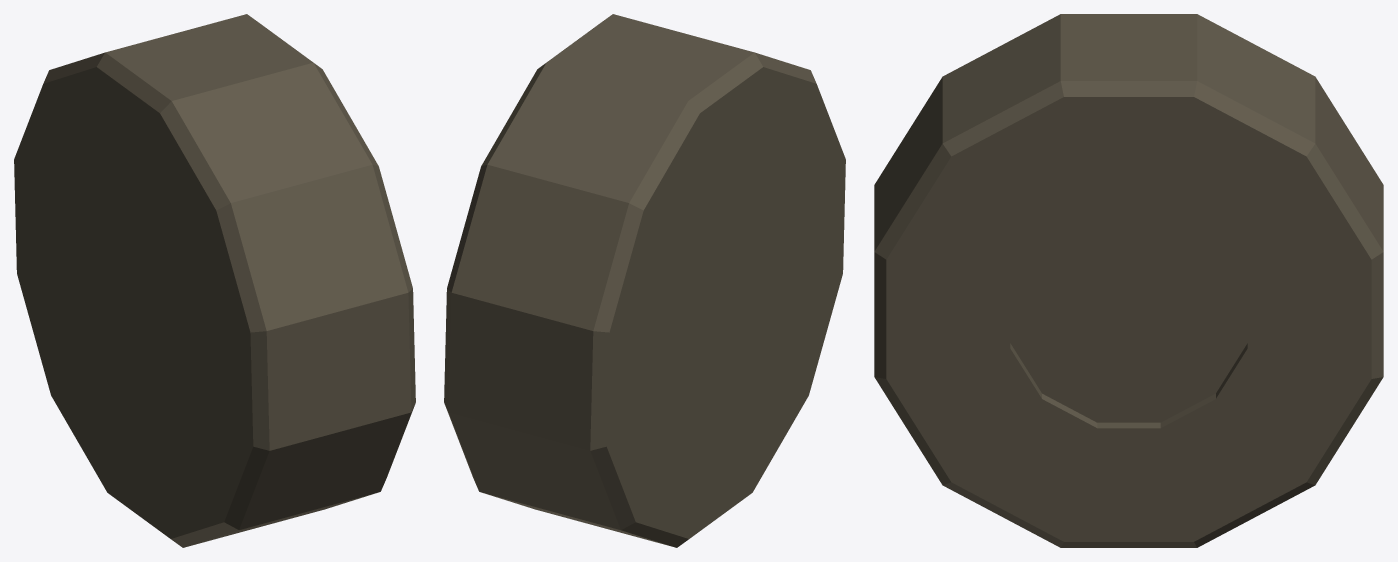
Rendered from Shotgun1_03_2.fbx.
The picture shows the model from 3 angles, left to right: view 1: azimuth 30°, elevation 25°; view 2: azimuth 150°, elevation 25°; view 3: azimuth 270°, elevation 25°; orthographic projection. The views are drawn at different scales.
Parts seen in each view (by area): view 1: Shotgun1_03_2; view 2: Shotgun1_03_2; view 3: Shotgun1_03_2.
Boxes of the visible parts, box(x1,y1,x2,y2) form: Shotgun1_03_2: box(14, 14, 415, 547); Shotgun1_03_2: box(444, 14, 845, 547); Shotgun1_03_2: box(874, 14, 1383, 547).
Bounding box in the file's own units: 0.0771 × 0.1927 × 0.1912.
